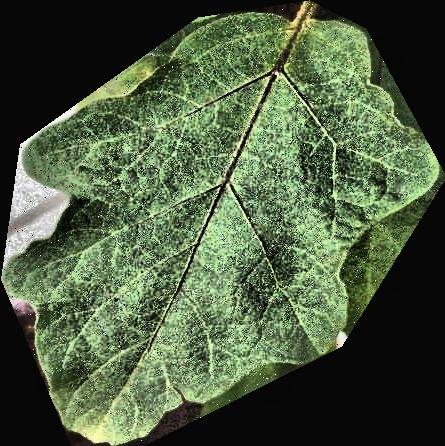HEALTHY: (1, 0, 445, 446)
